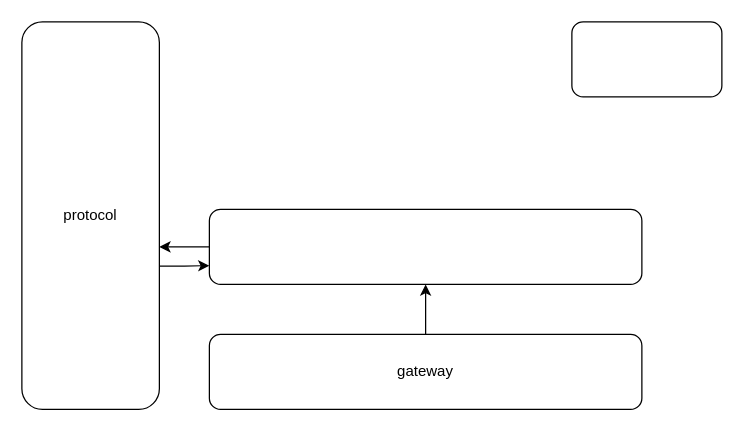
Image size: 744x431. Some labels were removed from this diagram. The shapes that lost their labels are listed below. From the top down, each one's centre as x and y in pixels, then its label:
the point at 646,59: 应用
the point at 425,246: process
